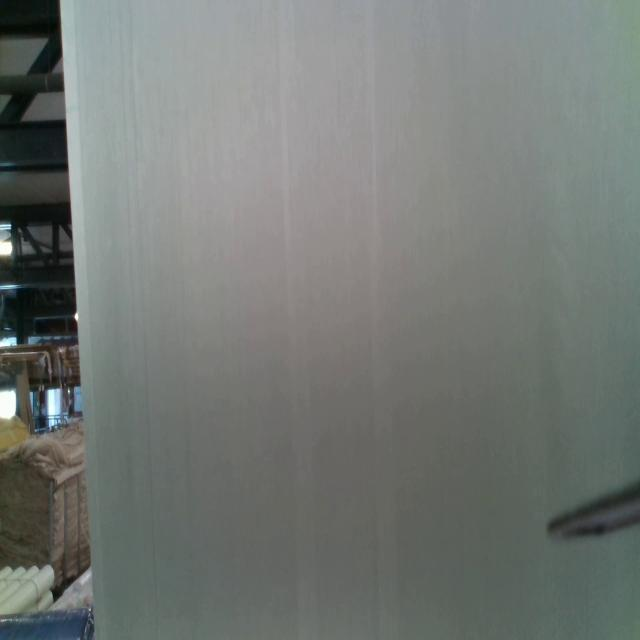crease: (128, 4, 159, 640), (277, 2, 306, 638), (366, 3, 386, 640)
